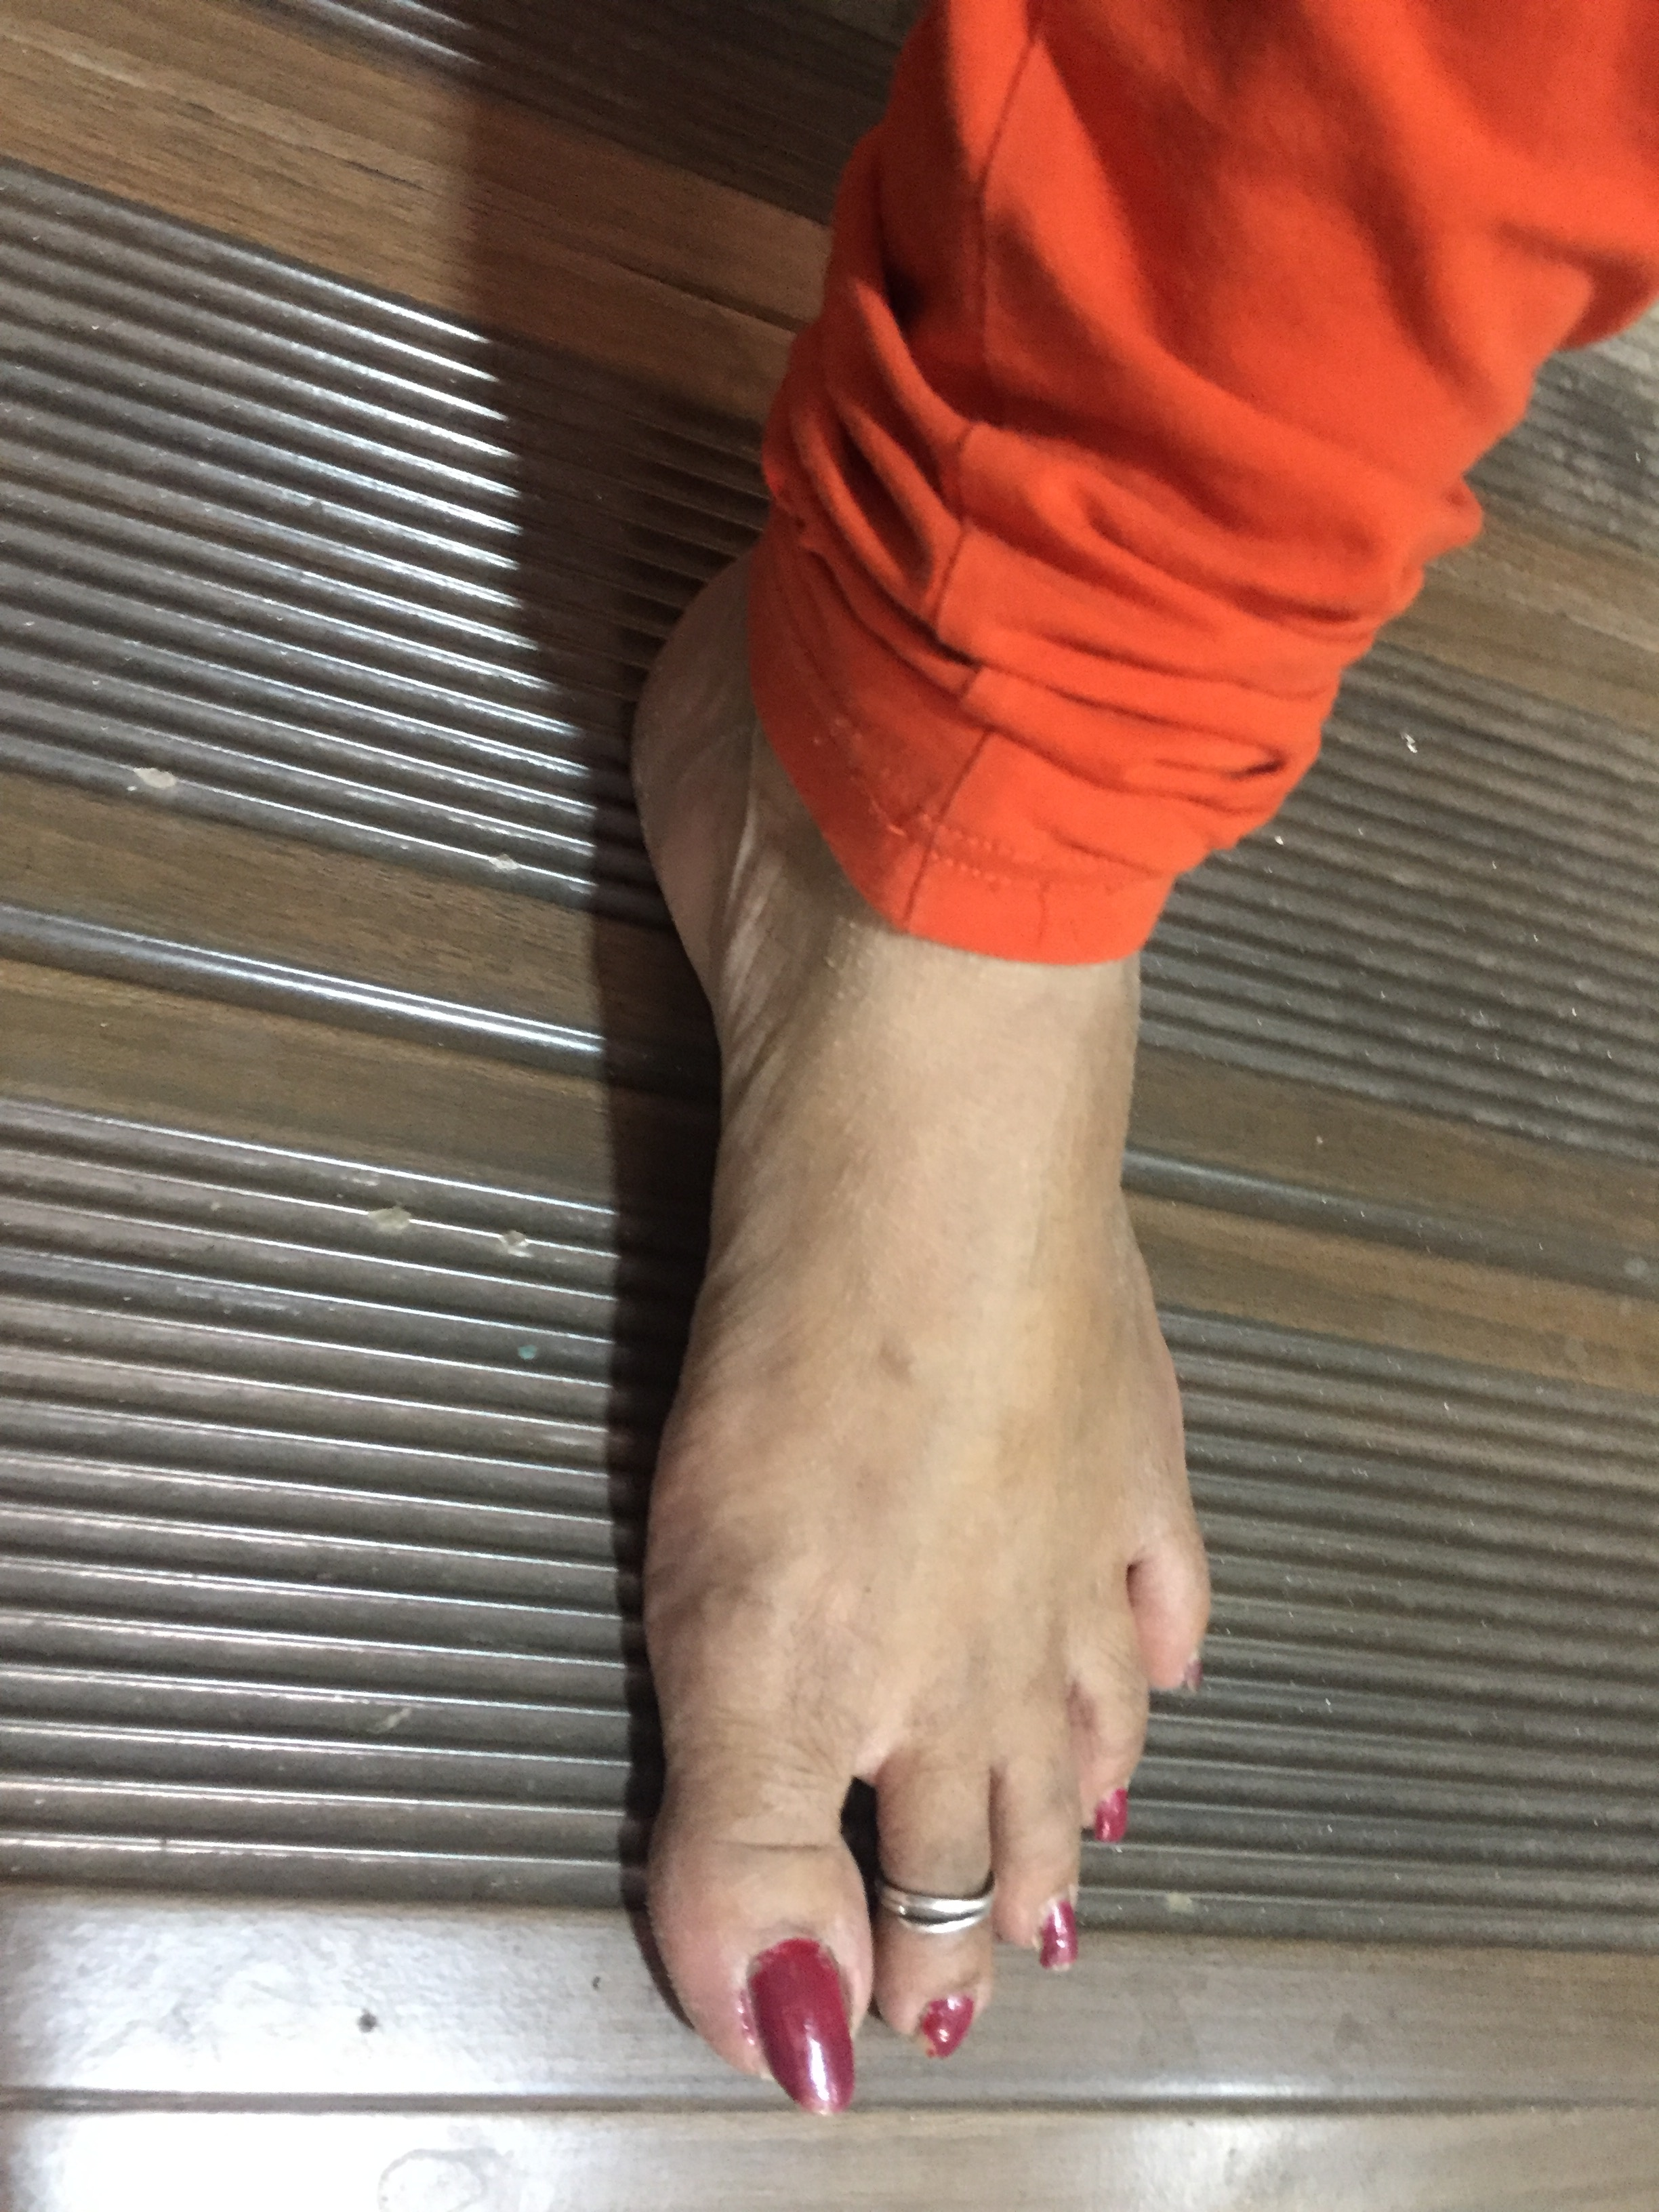feet: (596, 397, 1230, 2102)
